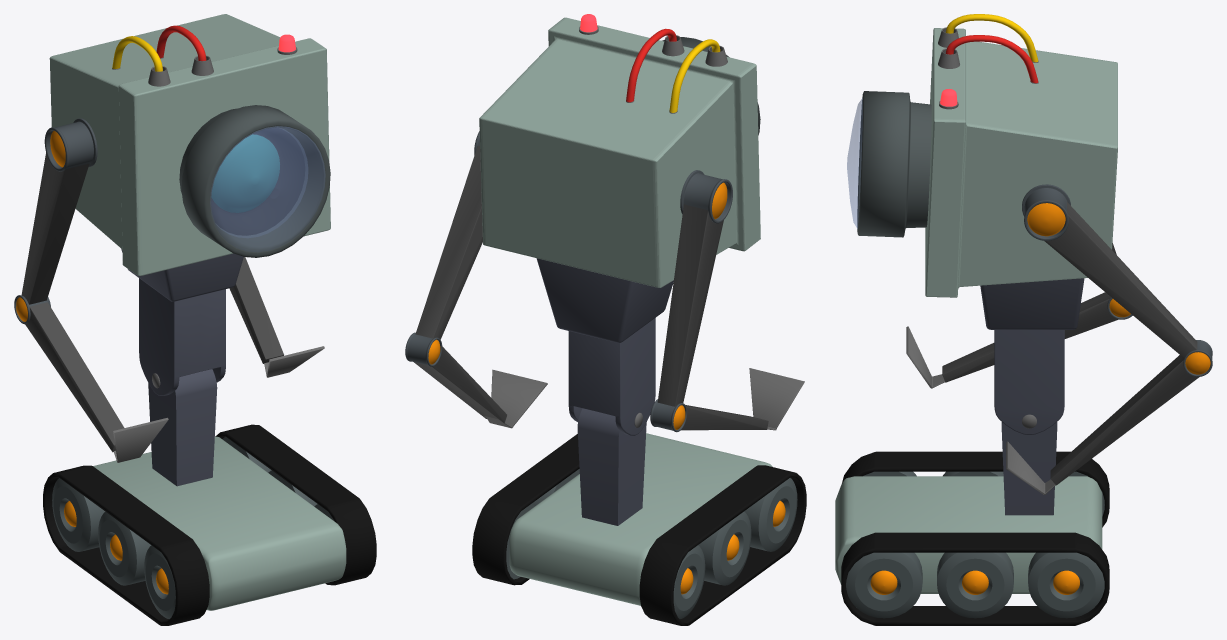
Rendered from butter_robot_rick_and_morty.glb.
3 views of the same model, side by side, from view 1: azimuth 30°, elevation 25°; view 2: azimuth 150°, elevation 25°; view 3: azimuth 270°, elevation 25° (orthographic).
Visible parts, largest first — view 1: Cube, Cube.008, Cylinder, Cylinder.002, Cube.010, Cube.005, Cylinder.019, Cube.009, Cube.007, Cylinder.021, Cube.004, Cylinder.007 (+7 smaller); view 2: Cube, Cube.008, Cube.010, Cylinder.019, Cube.005, Cube.004, Cube.007, Cube.009, Cylinder.018, Cylinder.020, Cylinder.006, Cylinder.007 (+6 smaller); view 3: Cube, Cube.008, Cylinder, Cube.009, Cylinder.018, Cube.005, Cylinder.020, Cube.004, Cylinder.005, Cylinder.010, Cylinder.009, Cube.010 (+7 smaller).
Boxes of the visible parts, x1,y1,x2,y2 form: Cube: [49, 14, 330, 275]; Cube.008: [93, 436, 346, 610]; Cylinder: [179, 105, 330, 257]; Cylinder.002: [210, 126, 325, 251]; Cube.010: [43, 465, 209, 625]; Cube.005: [139, 278, 225, 395]; Cylinder.019: [21, 118, 97, 304]; Cube.009: [215, 424, 376, 585]; Cube.007: [148, 369, 217, 486]; Cylinder.021: [14, 295, 124, 452]; Cube.004: [121, 249, 243, 301]; Cylinder.007: [98, 511, 151, 585]; Cube: [479, 17, 760, 287]; Cube.008: [509, 433, 772, 605]; Cube.010: [639, 465, 806, 625]; Cylinder.019: [657, 170, 732, 406]; Cube.005: [568, 318, 655, 435]; Cube.004: [536, 258, 673, 342]; Cube.007: [577, 408, 646, 525]; Cube.009: [472, 433, 579, 585]; Cylinder.018: [415, 131, 482, 339]; Cylinder.020: [405, 332, 506, 423]; Cylinder.006: [744, 478, 797, 551]; Cylinder.007: [698, 511, 751, 585]; Cube: [925, 28, 1117, 297]; Cube.008: [835, 476, 1102, 593]; Cylinder: [857, 91, 931, 237]; Cube.009: [841, 532, 1109, 625]; Cylinder.018: [1022, 184, 1197, 358]; Cube.005: [994, 330, 1064, 434]; Cylinder.020: [1050, 340, 1212, 485]; Cube.004: [980, 278, 1084, 329]; Cylinder.005: [937, 552, 1013, 618]; Cylinder.010: [1028, 552, 1104, 618]; Cylinder.009: [846, 552, 922, 618]; Cube.010: [842, 451, 1109, 527].
Bounding box in the file's own units: 8.49 × 16.67 × 10.71.
